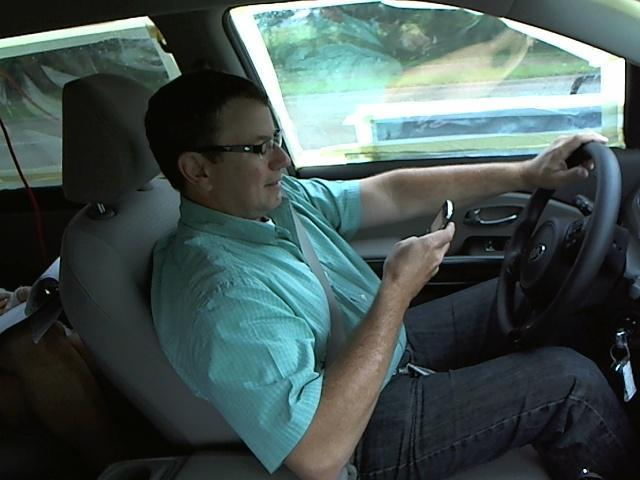PhoneUse: (407, 187, 465, 267)
